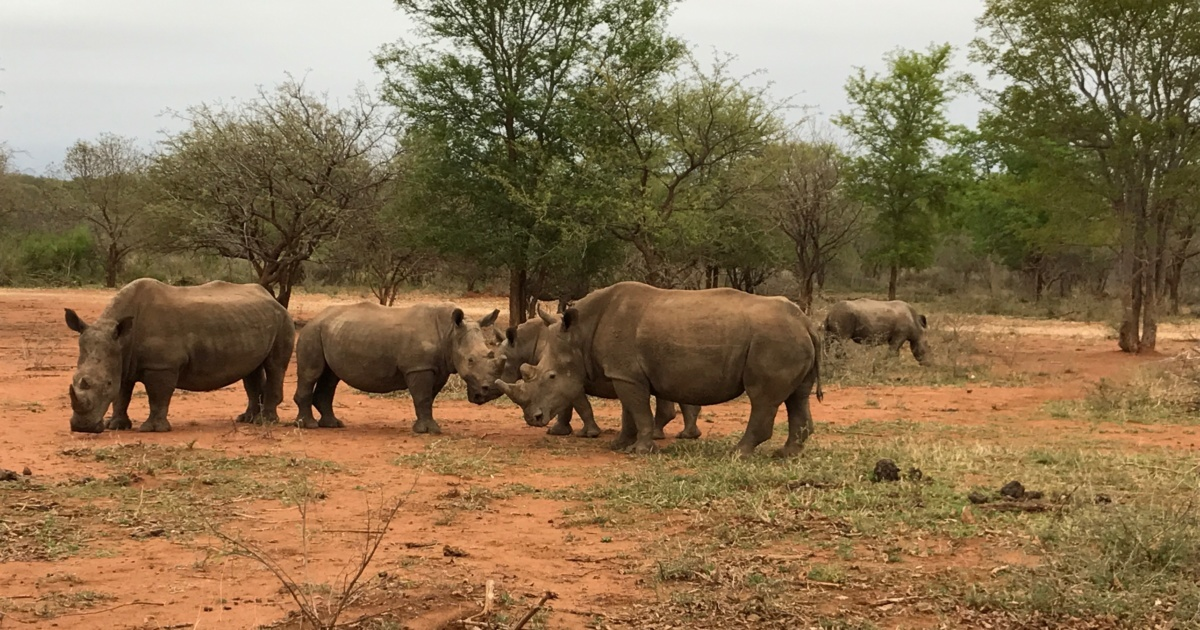rhino: (660, 374, 988, 558), (181, 353, 410, 510), (398, 368, 623, 504)
